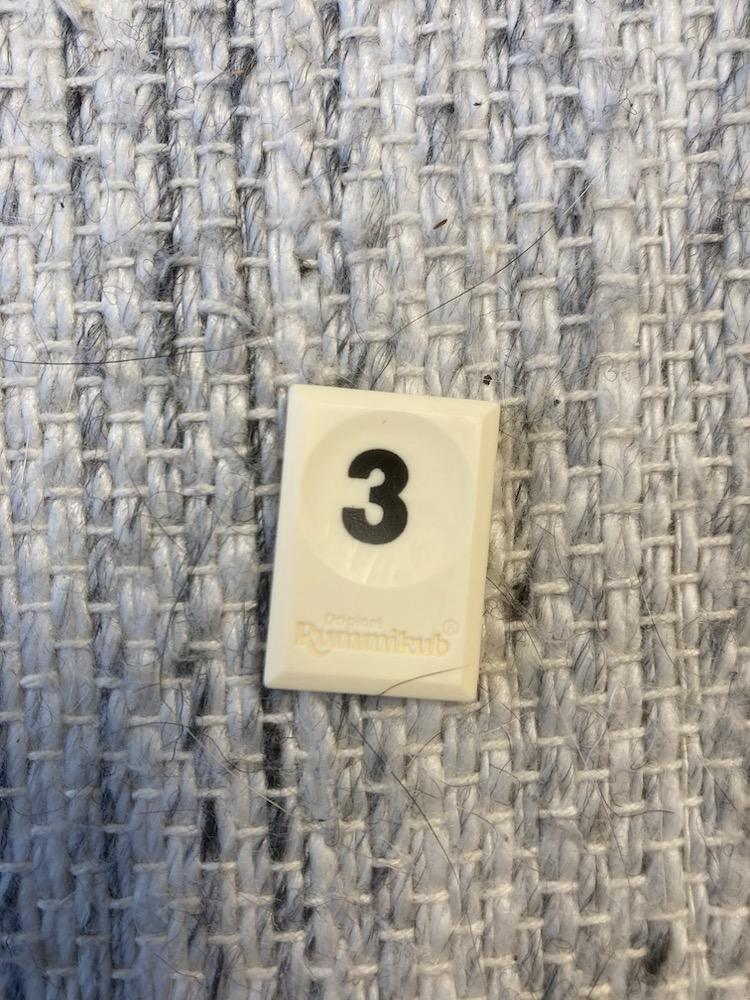black_3: (264, 385, 498, 701)
